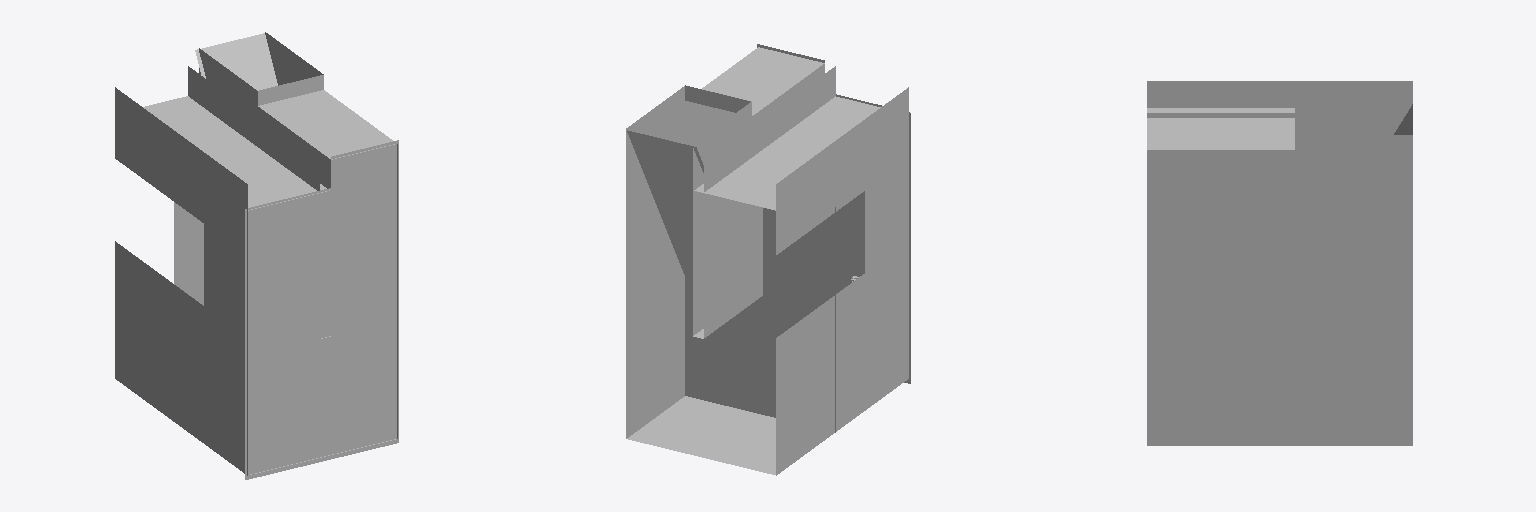
File: aztec_6_mesh.obj
3 views of the same model, side by side, from view 1: azimuth 30°, elevation 25°; view 2: azimuth 150°, elevation 25°; view 3: azimuth 270°, elevation 25° (orthographic).
Parts seen in each view (by area): view 1: aztec_6_mesh_0, aztec_6_mesh_1; view 2: aztec_6_mesh_0, aztec_6_mesh_1; view 3: aztec_6_mesh_0.
Boxes of the visible parts, <box> form: aztec_6_mesh_0: <box>115,32,398,479</box>; aztec_6_mesh_1: <box>174,33,277,305</box>; aztec_6_mesh_0: <box>626,44,910,475</box>; aztec_6_mesh_1: <box>627,130,835,432</box>; aztec_6_mesh_0: <box>1147,81,1412,445</box>.
Size of the model in its own units: 10.56 by 20.66 by 15.75.